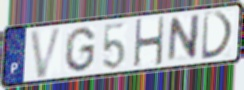5: (101, 20, 127, 70)
D: (200, 10, 236, 62)
G: (63, 25, 97, 73)
H: (133, 15, 166, 69)
N: (165, 12, 202, 65)
V: (28, 25, 65, 81)
